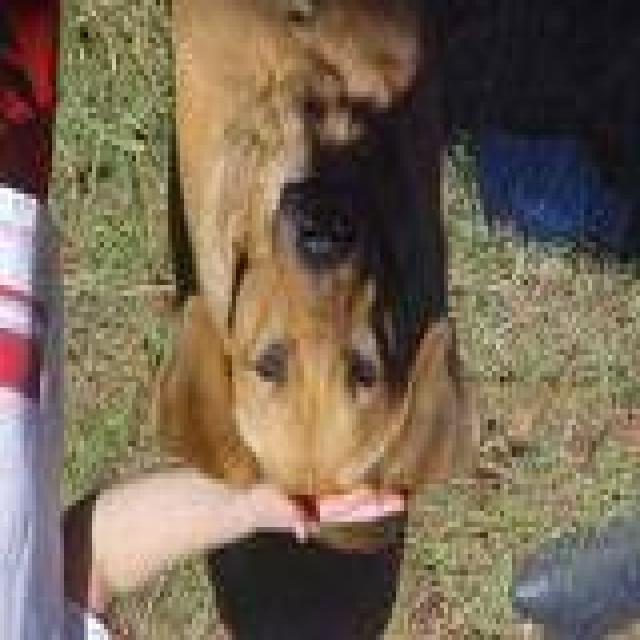dog: (136, 0, 492, 528)
